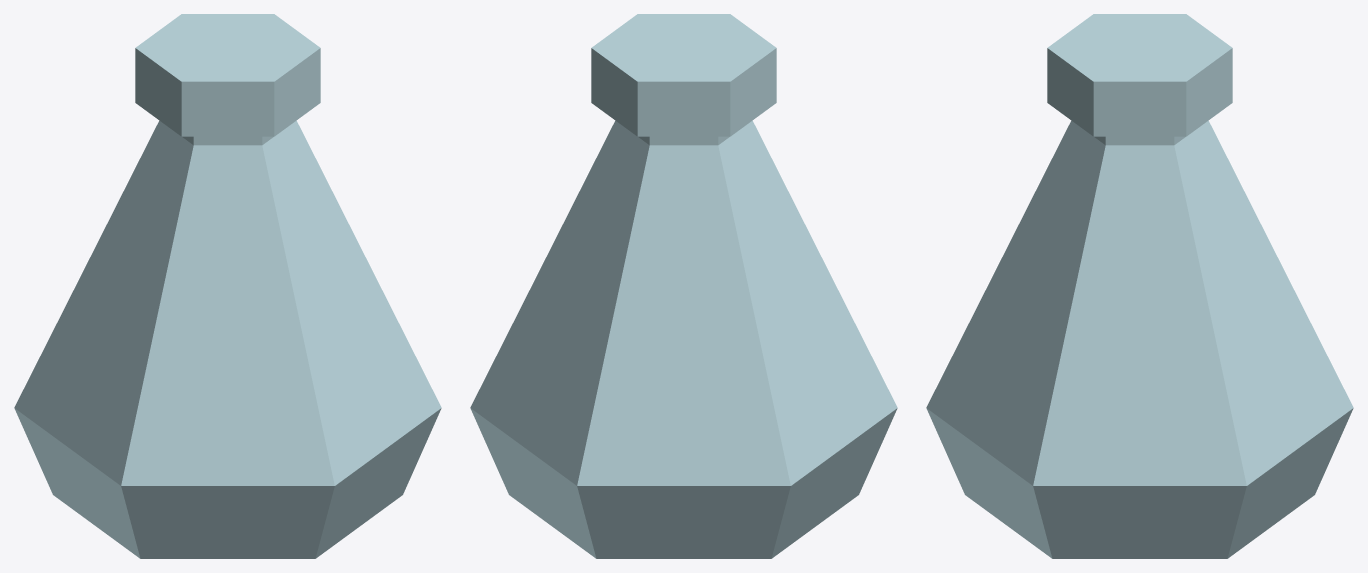
File: staminaPotion.fbx
3 renders of one model, left to right at view 1: azimuth 30°, elevation 25°; view 2: azimuth 150°, elevation 25°; view 3: azimuth 270°, elevation 25°, orthographic.
Parts seen in each view (by area): view 1: staminaPotion; view 2: staminaPotion; view 3: staminaPotion.
Part boxes in pixels (<box>): staminaPotion: <box>14,14,441,558</box>; staminaPotion: <box>470,14,897,558</box>; staminaPotion: <box>926,14,1353,558</box>.
Bounding box in the file's own units: 20.58 × 27.41 × 23.76.
